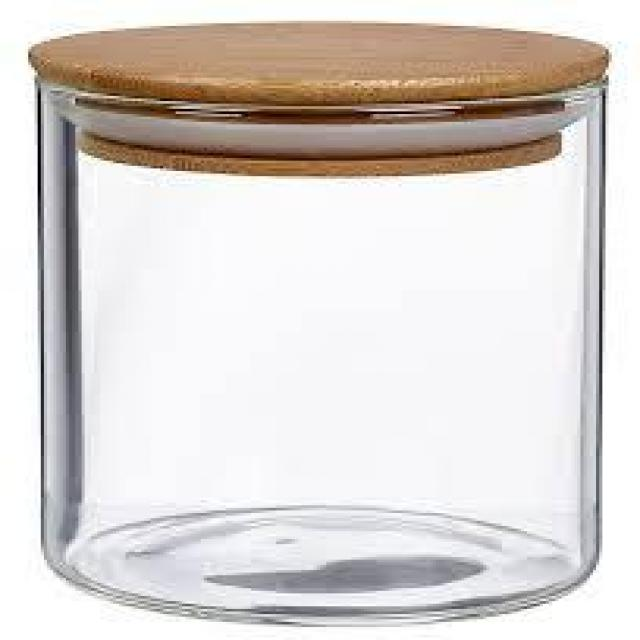non-organic waste: (24, 13, 616, 632)
